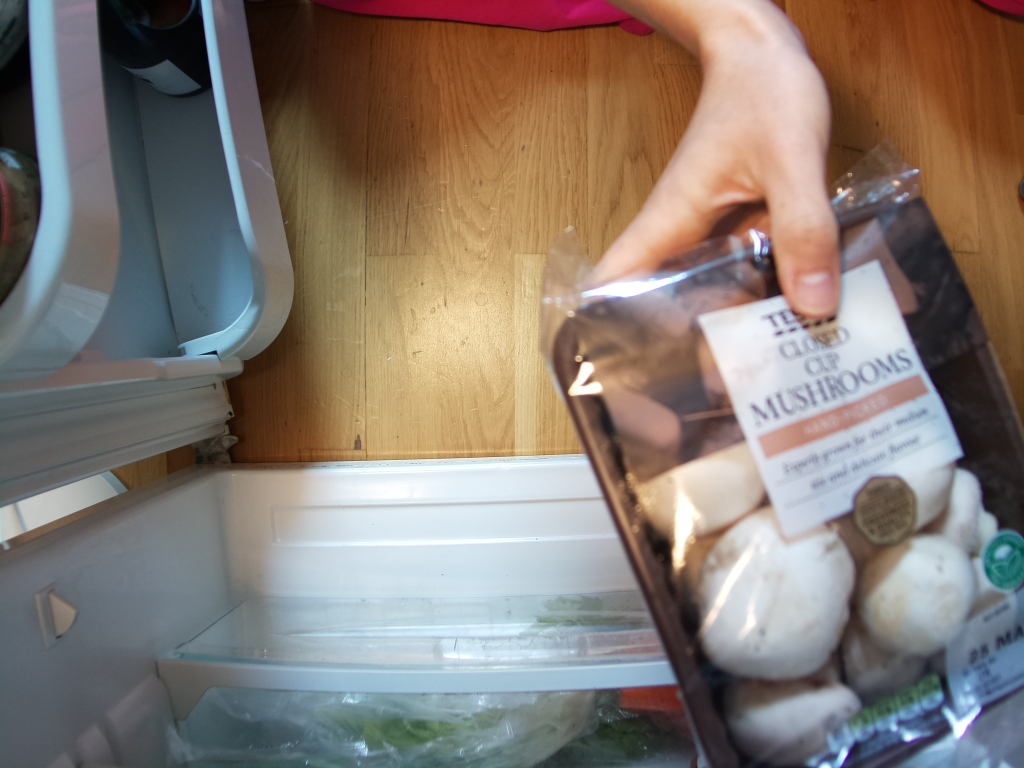mushrooms: (545, 188, 1024, 768)
